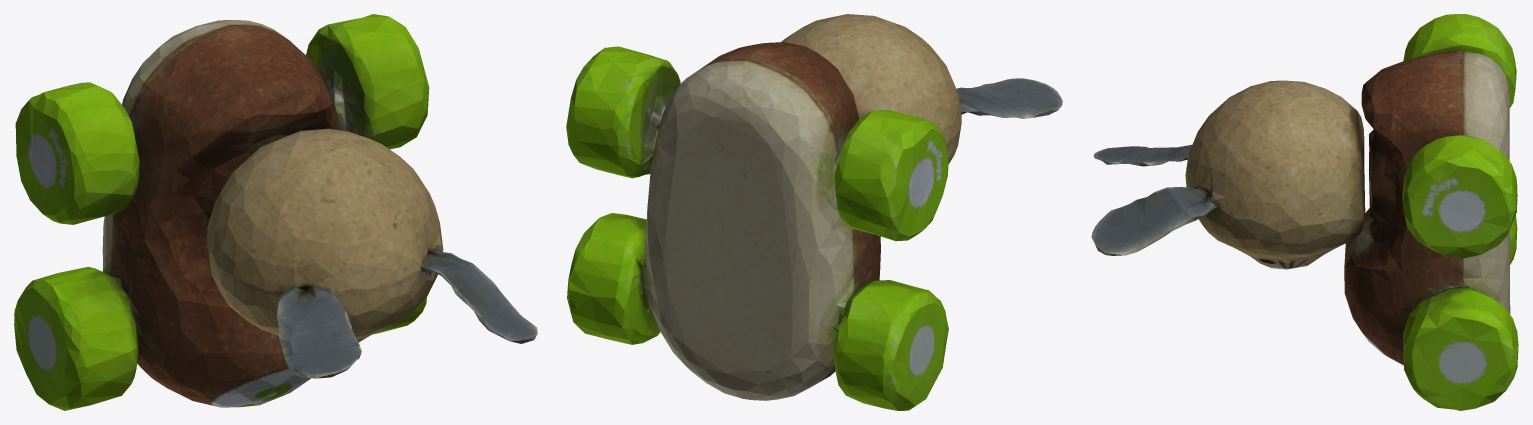
3 renders of one model, left to right at view 1: azimuth 30°, elevation 25°; view 2: azimuth 150°, elevation 25°; view 3: azimuth 270°, elevation 25°, orthographic. The views are drawn at different scales.
Size of the model in its own units: 0.0916 by 0.0881 by 0.1117.
Materials: 1 (1 with a texture image).
